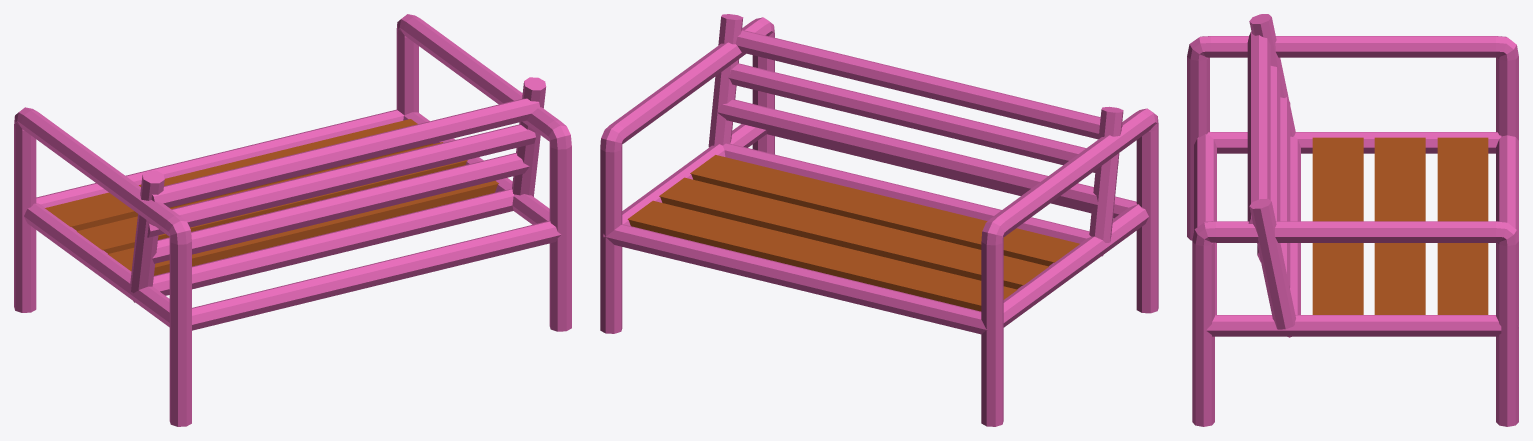
Rendered from banquito_humilde (1).fbx.
The picture shows the model from 3 angles, left to right: view 1: azimuth 30°, elevation 25°; view 2: azimuth 150°, elevation 25°; view 3: azimuth 270°, elevation 25°; orthographic projection.
Parts seen in each view (by area): view 1: Cylinder.005, Cube; view 2: Cylinder.005, Cube; view 3: Cylinder.005, Cube.
Boxes of the visible parts, x1,y1,x2,y2 form: Cylinder.005: [14, 14, 571, 426]; Cube: [45, 119, 498, 275]; Cylinder.005: [600, 14, 1158, 426]; Cube: [627, 155, 1079, 311]; Cylinder.005: [1187, 14, 1518, 426]; Cube: [1312, 137, 1488, 314].
Bounding box in the file's own units: 809 × 426 × 577.
